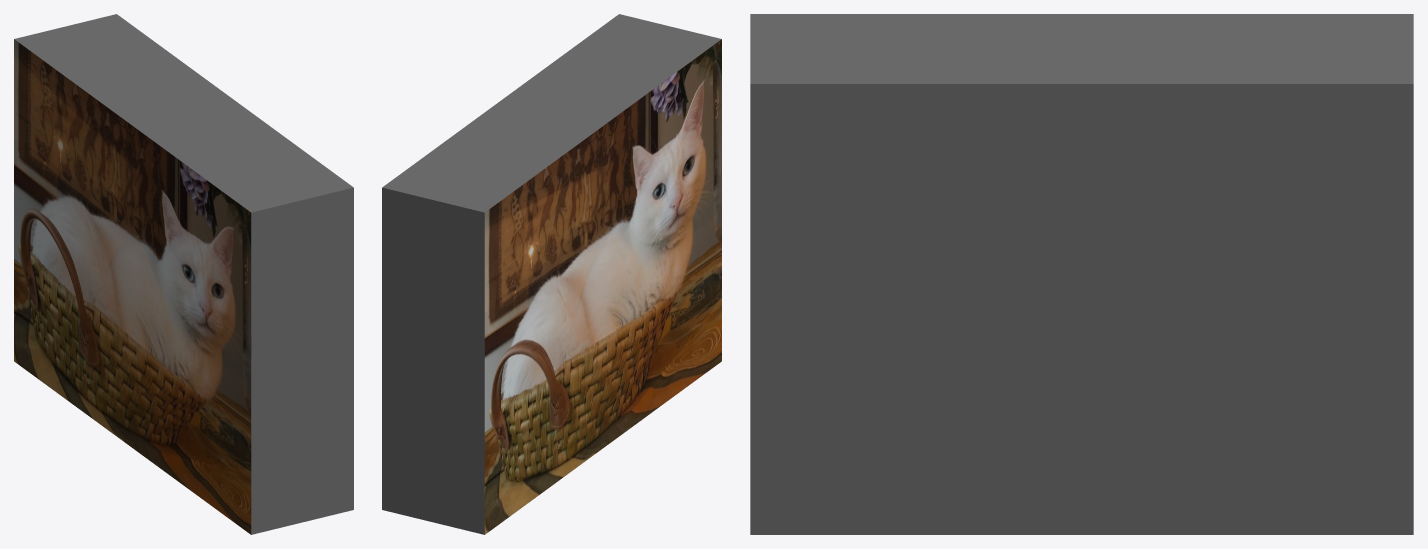
Rendered from 3x4puzzle.fbx.
3 renders of one model, left to right at view 1: azimuth 30°, elevation 25°; view 2: azimuth 150°, elevation 25°; view 3: azimuth 270°, elevation 25°, orthographic. The views are drawn at different scales.
Parts seen in each view (by area): view 1: piece2.023, piece2.021, piece2.022, piece3.008, piece4.008, piece2.020, piece1.004, piece4.007, piece3.007, piece2.017, piece2.018, piece2.019; view 2: piece3.008, piece1.004, piece3.007, piece2.023, piece2.020, piece4.008, piece2.019, piece2.021, piece2.022, piece2.017, piece2.018, piece4.007; view 3: piece2.020, piece3.008, piece4.008, piece2.023, piece1.004, piece2.017, piece2.018, piece2.019, piece3.007, piece4.007, piece2.021, piece2.022.
Part boxes in pixels (box(x1,y1,x2,y2)): piece2.023: box(192, 144, 353, 319); piece2.021: box(192, 384, 353, 534); piece2.022: box(192, 277, 353, 427); piece3.008: box(14, 14, 175, 189); piece4.008: box(73, 57, 234, 232); piece2.020: box(132, 101, 294, 276); piece1.004: box(14, 254, 73, 404); piece4.007: box(73, 190, 132, 340); piece3.007: box(14, 146, 73, 296); piece2.017: box(73, 297, 132, 447); piece2.018: box(132, 341, 191, 491); piece2.019: box(132, 233, 191, 383); piece3.008: box(382, 144, 543, 319); piece1.004: box(382, 384, 543, 534); piece3.007: box(382, 277, 543, 427); piece2.023: box(560, 14, 721, 189); piece2.020: box(501, 57, 662, 232); piece4.008: box(441, 101, 603, 276); piece2.019: box(603, 190, 662, 340); piece2.021: box(662, 254, 721, 404); piece2.022: box(662, 146, 721, 296); piece2.017: box(544, 341, 603, 491); piece2.018: box(603, 297, 662, 447); piece4.007: box(544, 233, 603, 383); piece2.020: box(916, 14, 1081, 234); piece3.008: box(1248, 14, 1413, 234); piece4.008: box(1082, 14, 1247, 234); piece2.023: box(750, 14, 915, 234); piece1.004: box(1248, 384, 1413, 534); piece2.017: box(1082, 384, 1247, 534); piece2.018: box(916, 384, 1081, 534); piece2.019: box(916, 234, 1081, 384); piece3.007: box(1248, 234, 1413, 384); piece4.007: box(1082, 234, 1247, 384); piece2.021: box(750, 384, 915, 534); piece2.022: box(750, 234, 915, 384).
Bounding box in the file's own units: 800 × 2400 × 3200.
2 materials, 1 textured.
